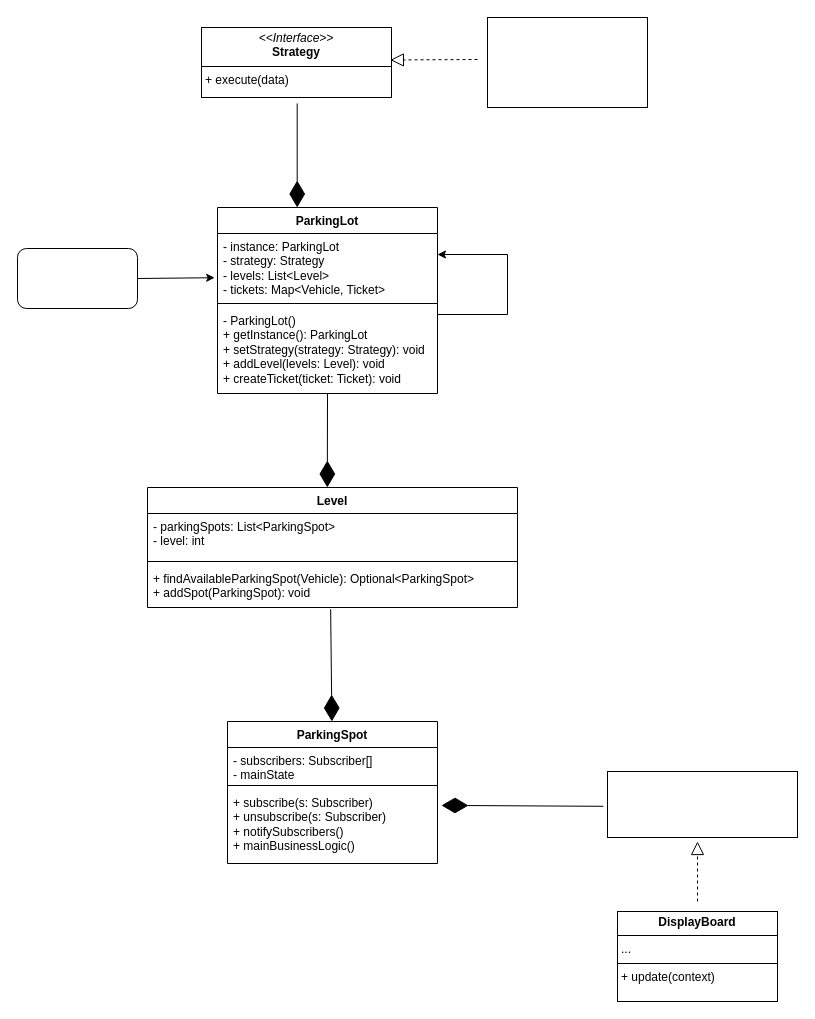
Some shapes in this 815 by 1019 pixel diagram are drawn without their labels. The centre of each missing label's shape, as x and y in pixels:
<<Interface>> Subscriber + update(context): point 702,804
Client: point 77,278
ConcreteStrategies ... + execute(data): point 567,62
